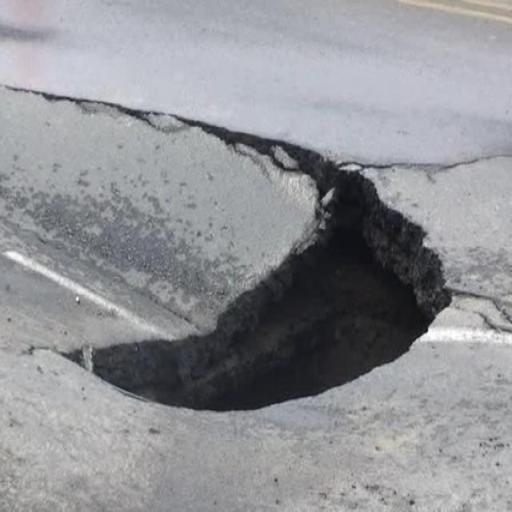Concentric_Crack: (67, 130, 451, 409)
